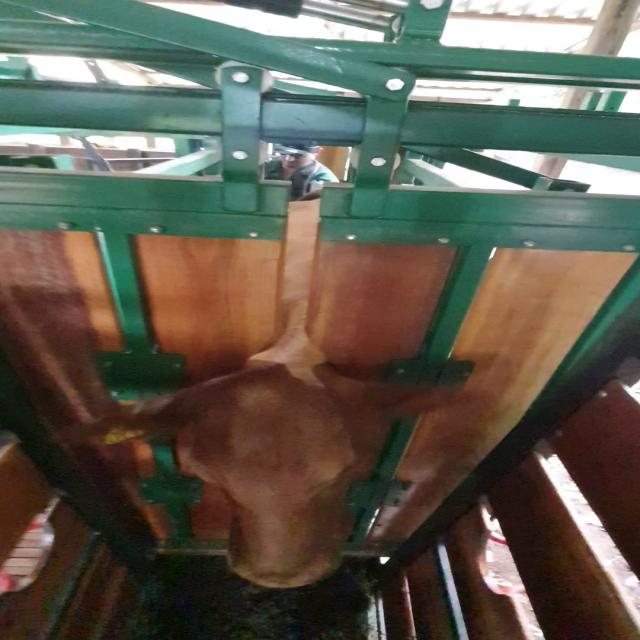cowFace: (184, 368, 356, 588)
